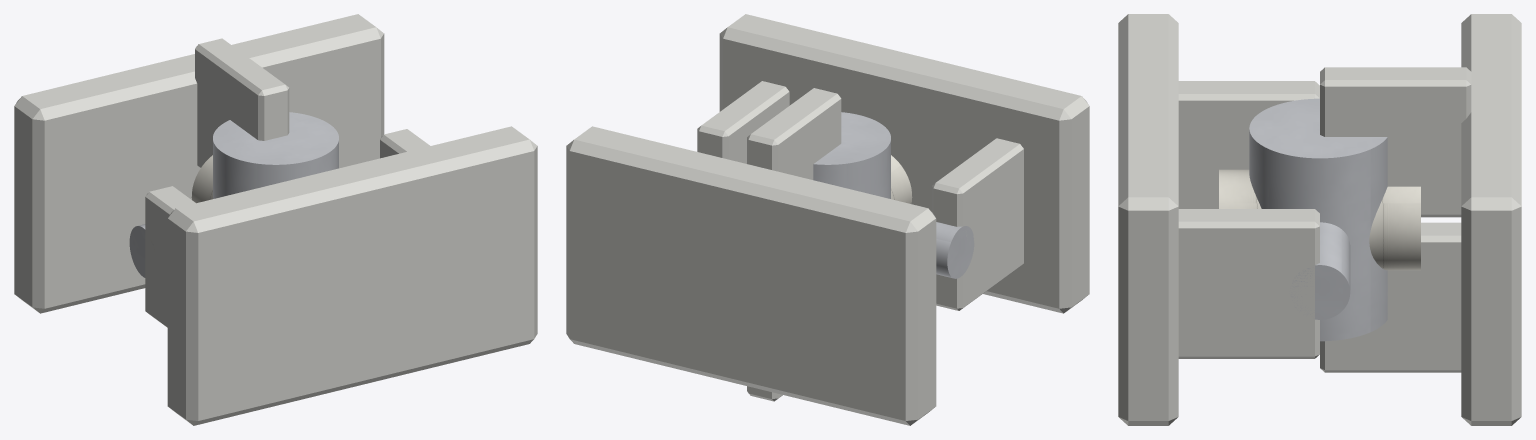
File: ax_rover_16_articulation_joint.glb
3 renders of one model, left to right at view 1: azimuth 30°, elevation 25°; view 2: azimuth 150°, elevation 25°; view 3: azimuth 270°, elevation 25°, orthographic. The views are drawn at different scales.
Parts seen in each view (by area): view 1: front_clevis, rear_clevis, gimbal_block, cable_boot; view 2: rear_clevis, front_clevis, gimbal_block, cable_boot; view 3: front_clevis, rear_clevis, gimbal_block, cable_boot.
Boxes of the visible parts, left/top/right/bottom form: front_clevis: left=145, top=126, right=537, bottom=425; rear_clevis: left=14, top=14, right=384, bottom=313; gimbal_block: left=129, top=112, right=338, bottom=277; cable_boot: left=191, top=155, right=212, bottom=203; rear_clevis: left=566, top=88, right=936, bottom=425; front_clevis: left=697, top=14, right=1089, bottom=313; gimbal_block: left=813, top=112, right=974, bottom=278; cable_boot: left=891, top=155, right=912, bottom=203; front_clevis: left=1118, top=14, right=1319, bottom=425; rear_clevis: left=1320, top=14, right=1521, bottom=425; gimbal_block: left=1249, top=98, right=1387, bottom=341; cable_boot: left=1219, top=169, right=1420, bottom=270.
Bounding box in the file's own units: 0.9 × 0.64 × 0.8.
3 materials, 2 textured.
